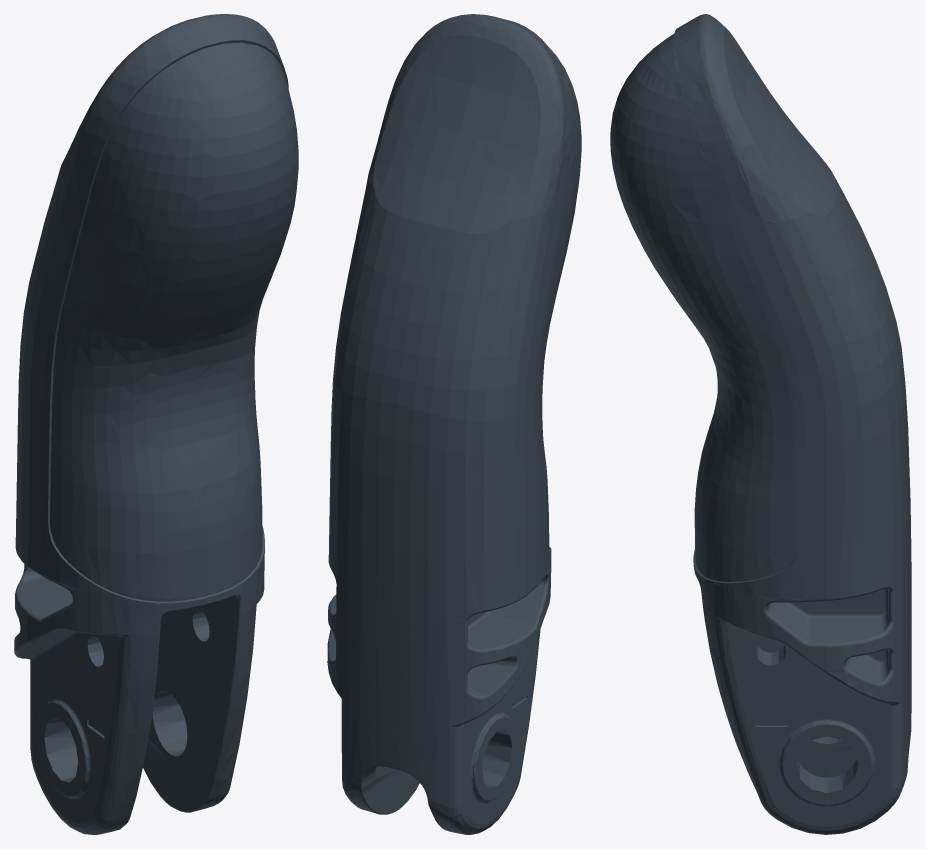
Rendered from if_dip_link.glb.
3 renders of one model, left to right at view 1: azimuth 30°, elevation 25°; view 2: azimuth 150°, elevation 25°; view 3: azimuth 270°, elevation 25°, orthographic. The views are drawn at different scales.
Visible parts, largest first — view 1: if_dip; view 2: if_dip; view 3: if_dip.
Part boxes in pixels (box(x1,y1,x2,y2)): if_dip: box(14, 14, 298, 834); if_dip: box(327, 14, 581, 834); if_dip: box(610, 14, 911, 834).
Size of the model in its own units: 0.0148 by 0.0566 by 0.0197.
